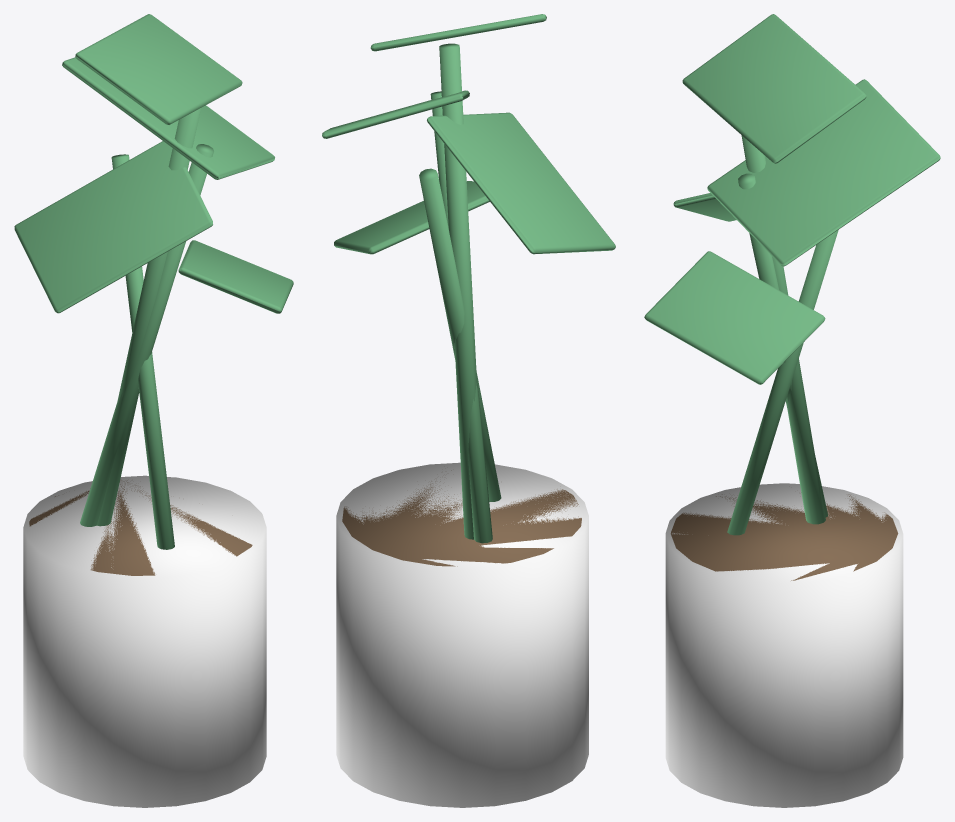
File: Modern_Houseplant.fbx
3 views of the same model, side by side, from view 1: azimuth 30°, elevation 25°; view 2: azimuth 150°, elevation 25°; view 3: azimuth 270°, elevation 25° (orthographic). The views are drawn at different scales.
Parts seen in each view (by area): view 1: Modern_Houseplant; view 2: Modern_Houseplant; view 3: Modern_Houseplant.
Part boxes in pixels (x1,y1,x2,y2): Modern_Houseplant: (14,14,293,807); Modern_Houseplant: (322,14,615,807); Modern_Houseplant: (644,14,940,807).
Bounding box in the file's own units: 57.99 × 158 × 59.85.
